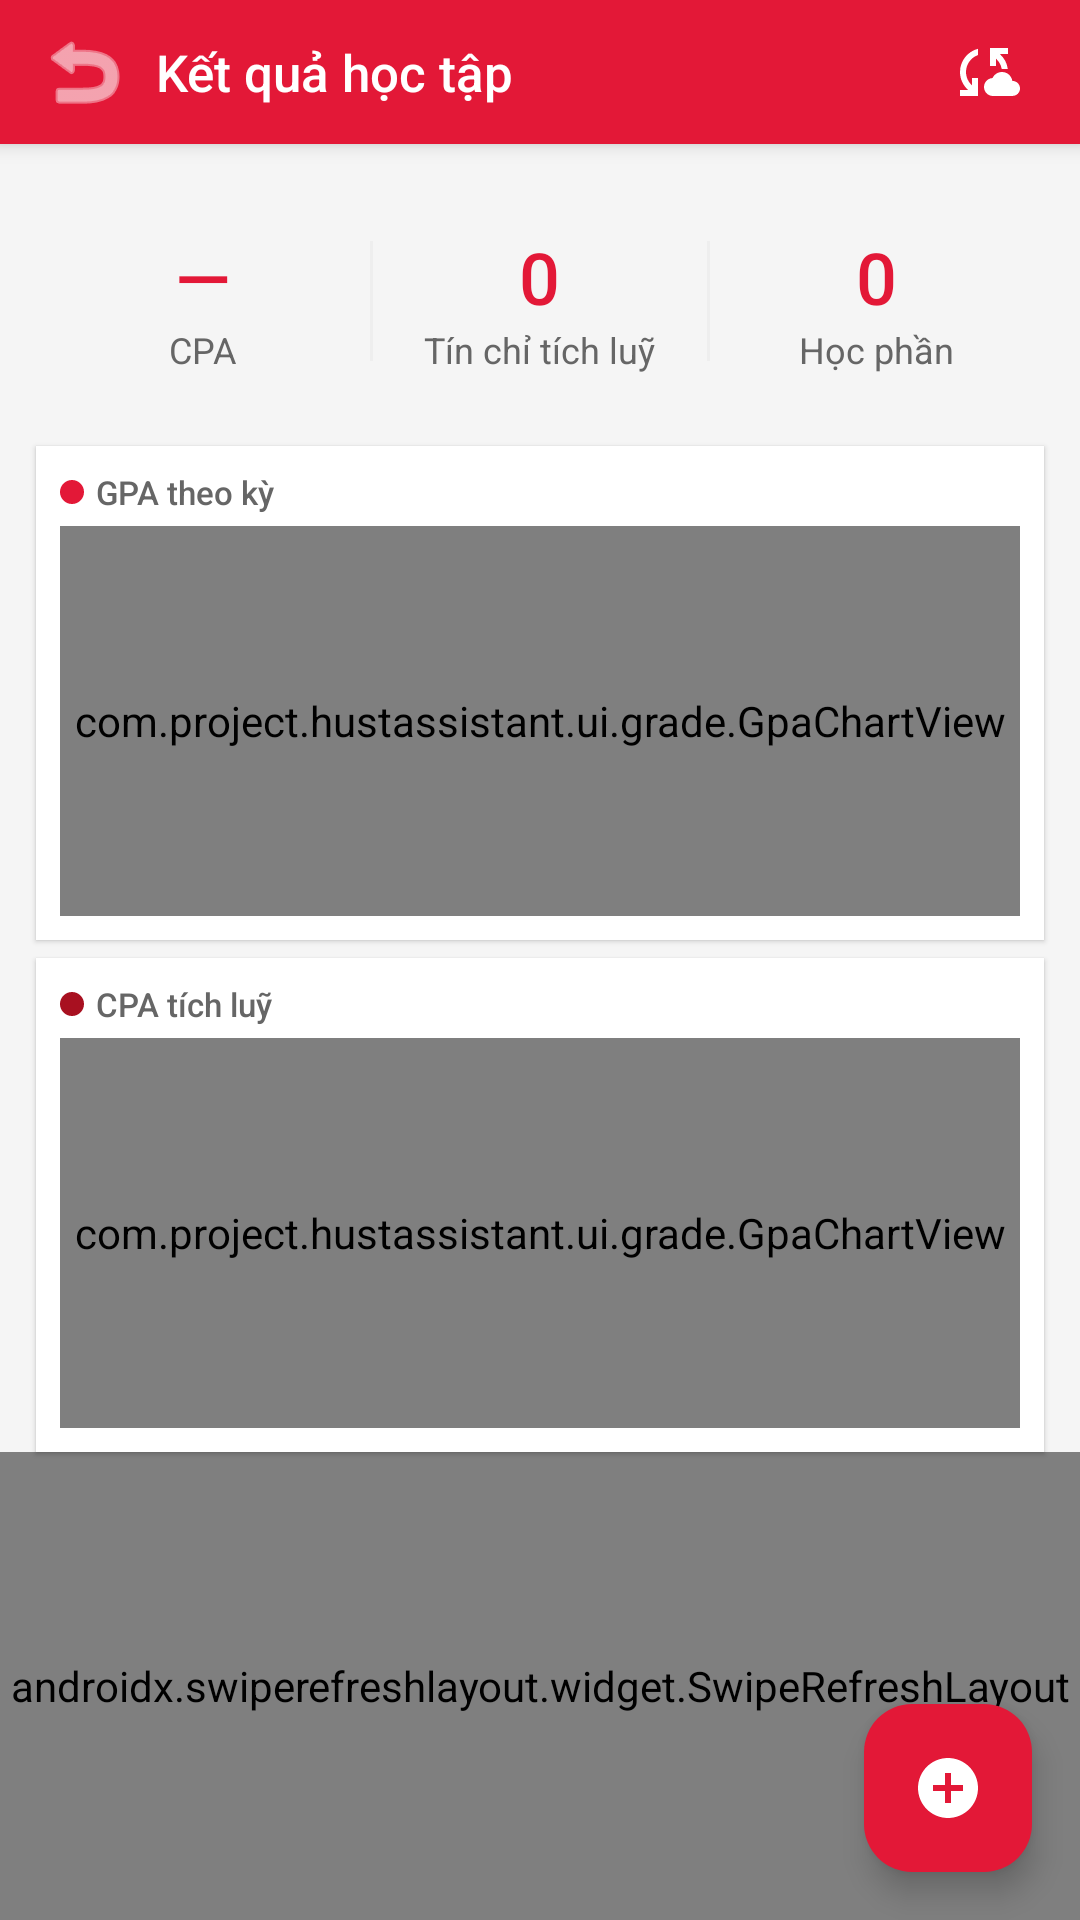

Icons on this 1080 × 1920 Android screen, each with its box as (x1, y1, x2, y2):
Back: (51, 41, 120, 104)
Sync: (960, 48, 1020, 96)
Thêm học phần: (864, 1704, 1032, 1872)
